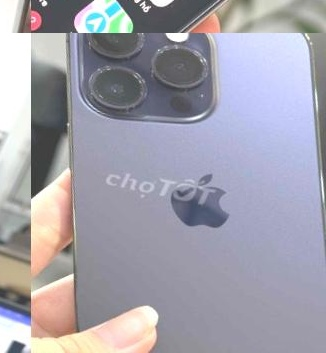scratch: (77, 52, 156, 123)
